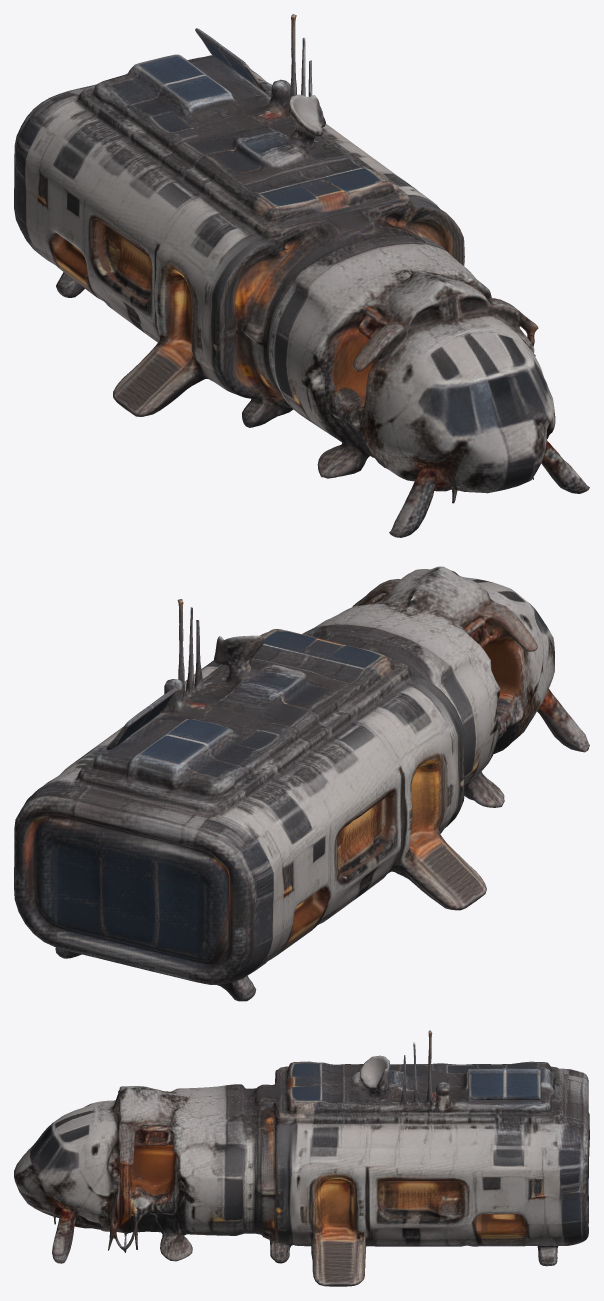
The model's file is Ship_pbr.glb.
3 renders of one model, top to bottom at view 1: azimuth 30°, elevation 25°; view 2: azimuth 150°, elevation 25°; view 3: azimuth 270°, elevation 25°, orthographic. The views are drawn at different scales.
Visible parts, largest first — view 1: model; view 2: model; view 3: model.
Part boxes in pixels (x1,y1,x2,y2): model: [14, 14, 589, 537]; model: [14, 566, 589, 1001]; model: [14, 1030, 589, 1286].
Size of the model in its own units: 0.9822 by 0.8134 by 1.91.
Materials: 1 (1 with a texture image).
